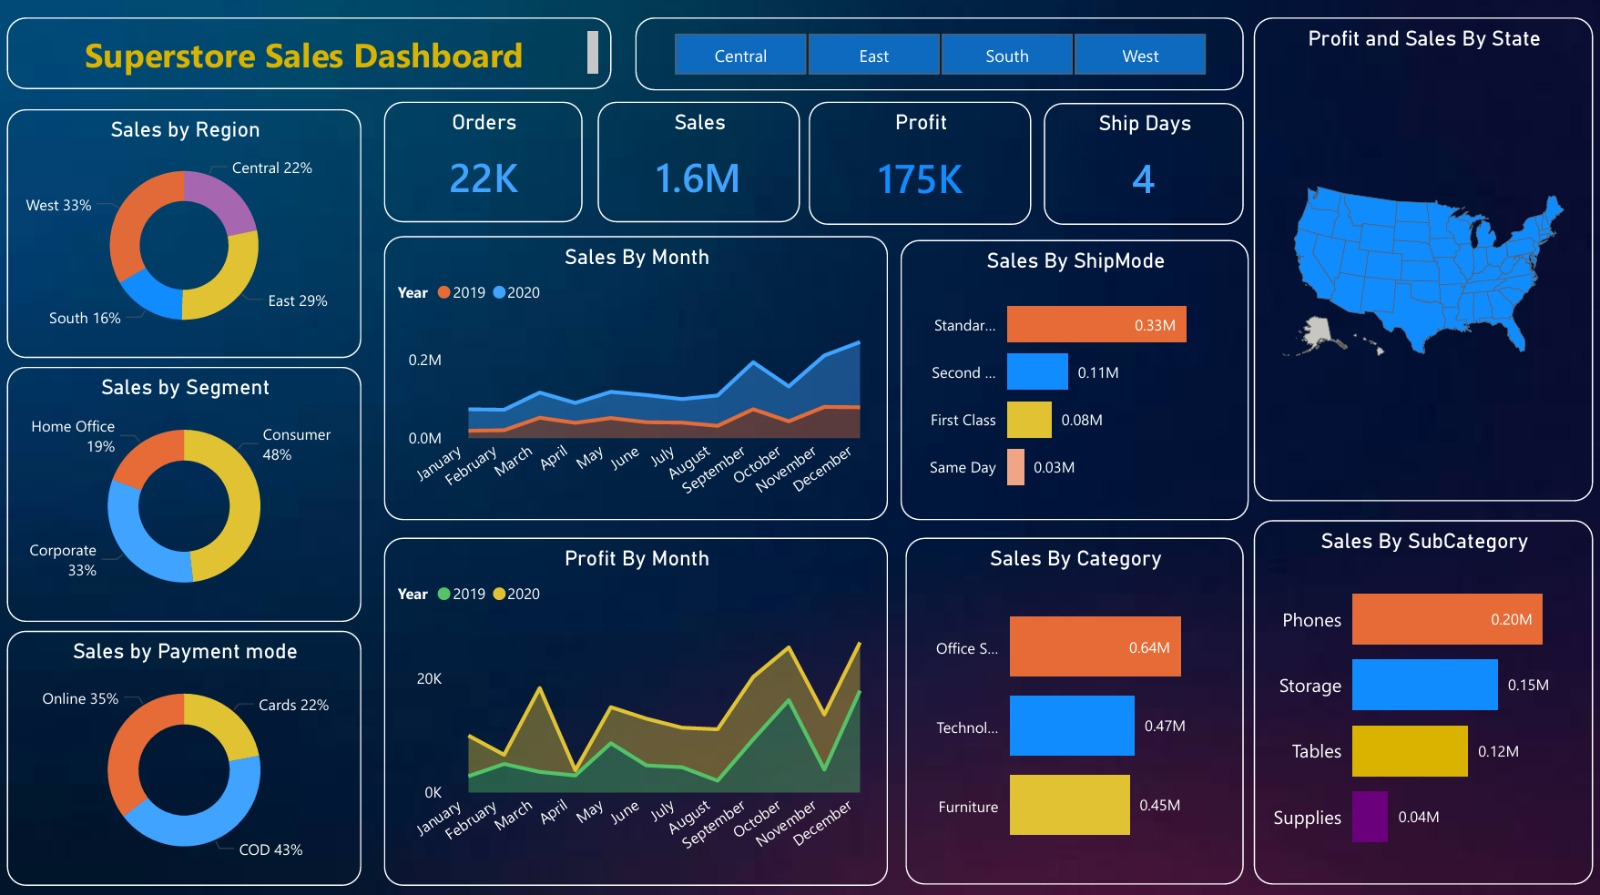

The dashboard page shown, as its layout file describes it:
{"tool":"powerbi","page":{"name":"Page 1","canvas":[1280,720],"ordinal":0},"visuals":[{"type":"clusteredBarChart","title":"Sales By Category","fields":{"Category":["Sheet1.Category"],"Y":["Sum(Sheet1.Sales)"]},"box":[724.3,430,268.6,275.7],"z":0},{"type":"clusteredBarChart","title":"Sales By SubCategory","fields":{"Category":["Sheet1.Sub-Category"],"Y":["Sum(Sheet1.Sales)"]},"box":[1014.3,415.7,257.1,290],"z":1000},{"type":"clusteredBarChart","title":"Sales By ShipMode","fields":{"Category":["Sheet1.Ship Mode"],"Y":["Sum(Sheet1.Sales)"]},"box":[720,192.9,277.1,222.9],"z":2000},{"type":"stackedAreaChart","title":"Profit By Month","fields":{"Category":["Sheet1.Order Date.Variation.Date Hierarchy.Month","Sheet1.Order Date.Variation.Date Hierarchy.Day"],"Series":["Sheet1.Order Date.Variation.Date Hierarchy.Year"],"Y":["Sum(Sheet1.Profit)"]},"box":[308.6,430,401.4,277.1],"z":3000},{"type":"stackedAreaChart","title":"Sales By Month","fields":{"Y":["Sum(Sheet1.Sales)"],"Category":["Sheet1.Order Date.Variation.Date Hierarchy.Month","Sheet1.Order Date.Variation.Date Hierarchy.Day"],"Series":["Sheet1.Order Date.Variation.Date Hierarchy.Year"]},"box":[308.6,190,401.4,225.7],"z":4000},{"type":"shapeMap","title":"Profit and Sales By State","fields":{"Category":["Sheet1.State"],"Value":["Sum(SuperStore_Sales_Dataset.Sales)"]},"box":[1001.4,15.7,270,385.7],"z":5000},{"type":"donutChart","title":"Sales by Segment","fields":{"Category":["Sheet1.Segment"],"Y":["Sum(Sheet1.Sales)"]},"box":[9,297,282,208],"z":6000},{"type":"donutChart","title":"Sales by Payment mode","fields":{"Y":["Sum(Sheet1.Sales)"],"Series":["Sheet1.Payment Mode"]},"box":[9,515,282,205],"z":7000},{"type":"donutChart","title":"Sales by Region","fields":{"Y":["Sum(Sheet1.Sales)"],"Series":["Sheet1.Region"]},"box":[15,89,276,201],"z":8000},{"type":"slicer","fields":{"Values":["Sheet1.Region"]},"box":[506,15,448,58],"z":9000},{"type":"textbox","box":[8.6,15.7,481.4,57.1],"z":10000},{"type":"cardVisual","title":"Profit","fields":{"Data":["Sum(Sheet1.Profit)"]},"box":[647.1,82.9,177.1,98.6],"z":11000},{"type":"cardVisual","title":"Sales","fields":{"Data":["Sum(Sheet1.Sales)"]},"box":[478.6,82.9,161.4,95.7],"z":12000},{"type":"cardVisual","title":"Orders","fields":{"Data":["Sum(Sheet1.Quantity)"]},"box":[308.6,82.9,158.6,95.7],"z":13000},{"type":"cardVisual","title":"Ship Days","fields":{"Data":["Avg(Sheet1.AvgDelivery)"]},"box":[834.3,84.3,148.6,97.1],"z":14000}]}

Visuals, with their boxes in screenshot pixels (x1, y1, x2, y2), scaled from the page's 1280x720 canvas onto the 1600x895 screenshot:
"Sales By Category" clusteredBarChart: {"x1": 905, "y1": 535, "x2": 1241, "y2": 877}
"Sales By SubCategory" clusteredBarChart: {"x1": 1268, "y1": 517, "x2": 1589, "y2": 877}
"Sales By ShipMode" clusteredBarChart: {"x1": 900, "y1": 240, "x2": 1246, "y2": 517}
"Profit By Month" stackedAreaChart: {"x1": 386, "y1": 535, "x2": 888, "y2": 879}
"Sales By Month" stackedAreaChart: {"x1": 386, "y1": 236, "x2": 888, "y2": 517}
"Profit and Sales By State" shapeMap: {"x1": 1252, "y1": 20, "x2": 1589, "y2": 499}
"Sales by Segment" donutChart: {"x1": 11, "y1": 369, "x2": 364, "y2": 628}
"Sales by Payment mode" donutChart: {"x1": 11, "y1": 640, "x2": 364, "y2": 894}
"Sales by Region" donutChart: {"x1": 19, "y1": 111, "x2": 364, "y2": 360}
slicer - Sheet1.Region: {"x1": 632, "y1": 19, "x2": 1192, "y2": 91}
textbox: {"x1": 11, "y1": 20, "x2": 612, "y2": 90}
"Profit" cardVisual: {"x1": 809, "y1": 103, "x2": 1030, "y2": 226}
"Sales" cardVisual: {"x1": 598, "y1": 103, "x2": 800, "y2": 222}
"Orders" cardVisual: {"x1": 386, "y1": 103, "x2": 584, "y2": 222}
"Ship Days" cardVisual: {"x1": 1043, "y1": 105, "x2": 1229, "y2": 225}
